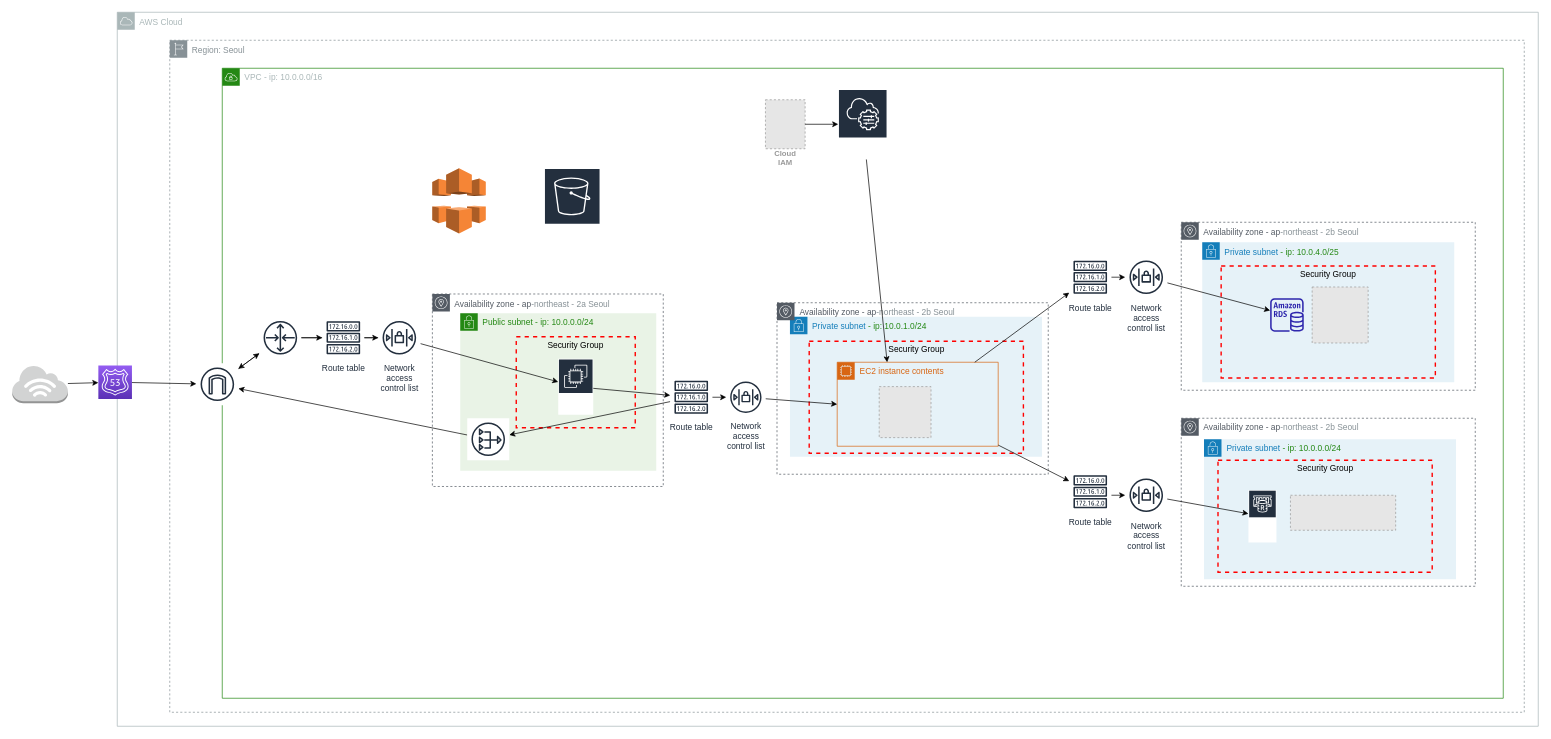
This 1551x739 diagram has some shape labels left out. Grey dashed boxes stand in for pictures. Here are the shapes that lost their labels. From the top down, the centre of each, then its label:
At [862,124]: "AWS Systems Manager".
At [572,203]: "Amazon S3".
At [280,337]: "Router".
At [217,384]: "Internet gateway".
At [575,386]: "Amazon EC2".
At [488,439]: "NAT gateway".
At [1262,515]: "Amazon ElastiCache for Redis".
